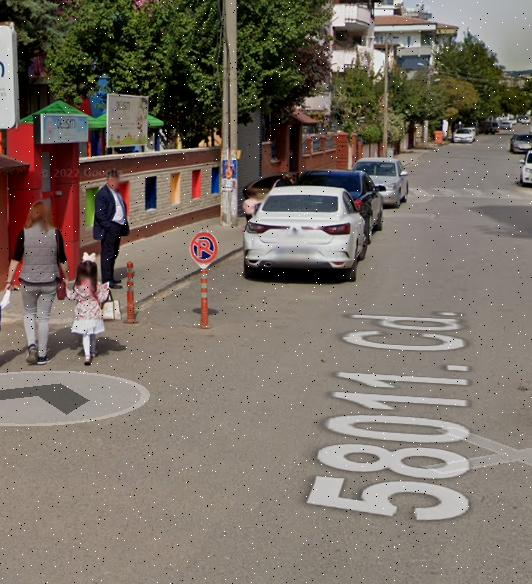nopark: (189, 231, 220, 266)
